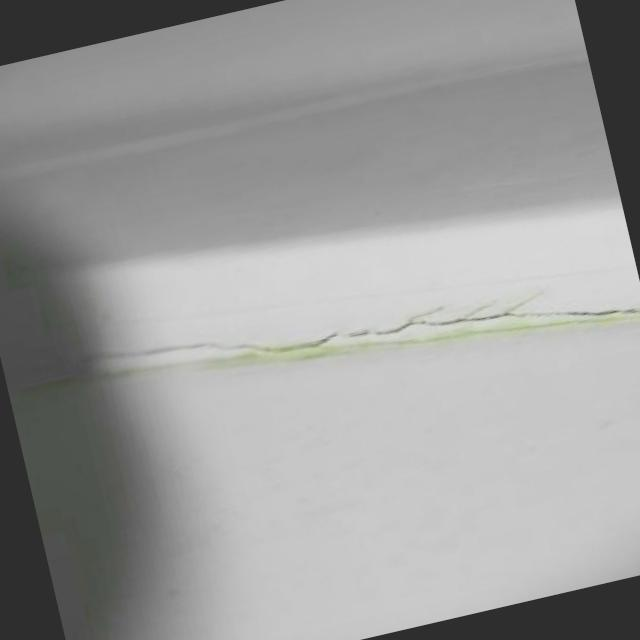crack: (96, 304, 334, 396), (340, 296, 510, 354), (513, 285, 640, 341)
